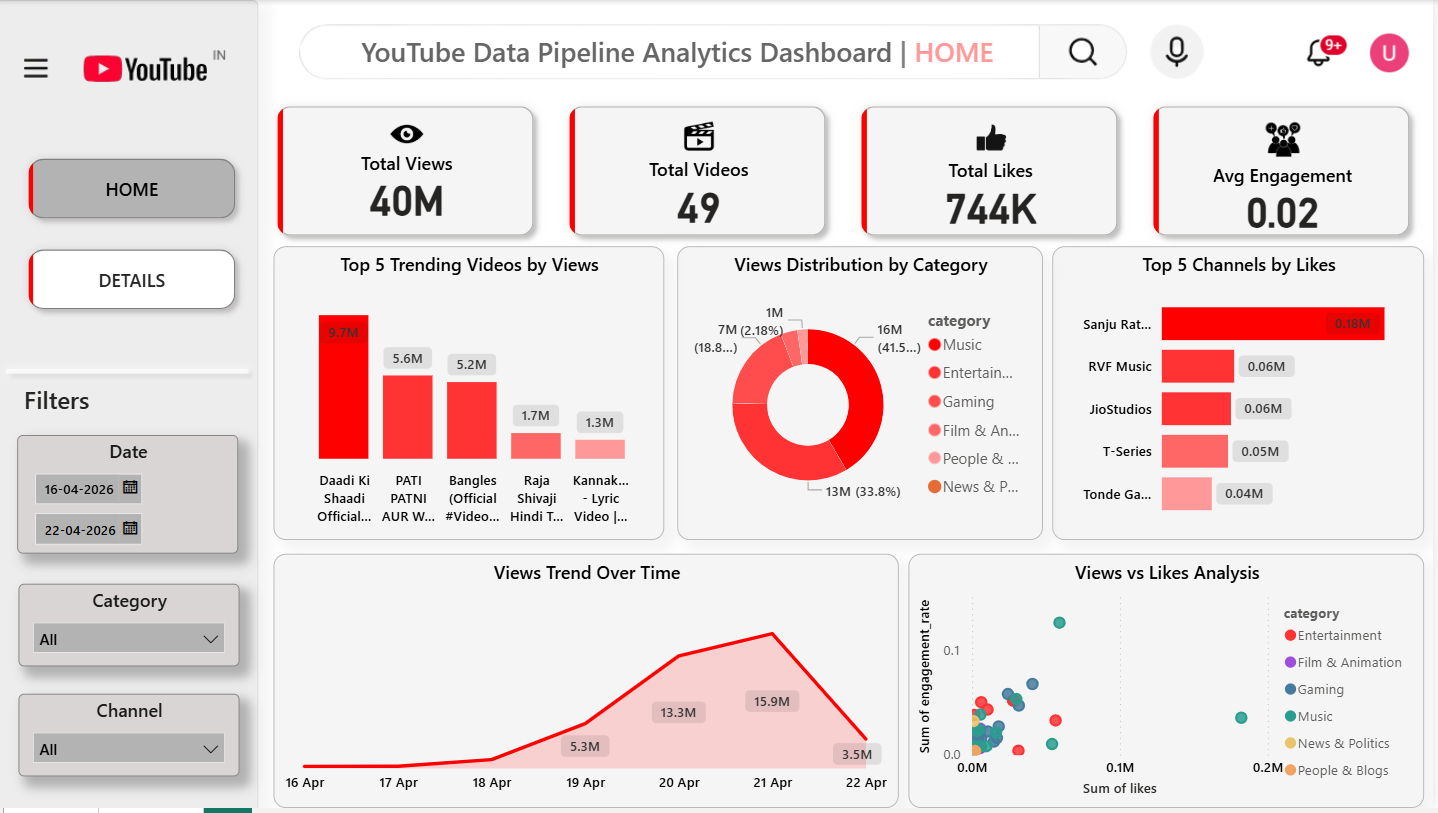

Layout of this report page (visuals, bound fields, positions):
{"tool":"powerbi","page":{"name":"HOME","canvas":[1280,720],"ordinal":0},"visuals":[{"type":"shape","box":[0,0,233.8,800.4],"z":0},{"type":"image","box":[10.5,15.1,223.3,90.7],"z":1000},{"type":"image","box":[233.7,0,877.9,91.9],"z":2000},{"type":"textbox","box":[289.5,24.4,634.9,44.2],"z":3000},{"type":"image","box":[1151.2,15.1,129.1,62.8],"z":4000},{"type":"cardVisual","fields":{"Data":["Query1.Total Views_1","Query1.Total Videos_1","Query1.Total Likes_1","Query1.Avg Engagement_1"]},"box":[234,78.4,1046,149.6],"z":5000},{"type":"barChart","title":"Top 5 Channels by Likes","fields":{"Category":["Query1.channel"],"Y":["Sum(Query1.likes)"]},"box":[940.7,219.8,331.4,261.6],"z":6000},{"type":"donutChart","title":"Views Distribution by Category","fields":{"Y":["Sum(Query1.views)"],"Category":["Query1.category"]},"box":[607,219.8,325.6,261.6],"z":7000},{"type":"columnChart","title":"Top 5 Trending Videos by Views","fields":{"Category":["Query1.title"],"Y":["Query1.Total Views_1"]},"box":[247.7,219.8,347.7,261.6],"z":8000},{"type":"stackedAreaChart","title":"Views Trend Over Time","fields":{"Y":["Sum(Query1.views)"],"Category":["Query1.publish_date.Variation.Date Hierarchy.Year","Query1.publish_date.Variation.Date Hierarchy.Quarter","Query1.publish_date.Variation.Date Hierarchy.Month","Query1.publish_date.Variation.Date Hierarchy.Day"]},"box":[247.7,493,557,226.7],"z":9000},{"type":"scatterChart","title":"Views vs Likes Analysis","fields":{"Series":["Query1.category"],"Y":["Sum(Query1.engagement_rate)"],"X":["Sum(Query1.likes)"],"Category":["Query1.views"]},"box":[812.8,493,459.3,226.7],"z":10000},{"type":"slicer","title":"Category","fields":{"Values":["Query1.category"]},"box":[19.8,519.8,196.5,73.3],"z":11000},{"type":"slicer","title":"Channel","fields":{"Values":["Query1.channel"]},"box":[19.8,617.4,196.5,73.3],"z":12000},{"type":"slicer","title":"Date","fields":{"Values":["Query1.publish_date"]},"box":[18.6,387.2,196.5,105.8],"z":13000},{"type":"textbox","box":[19.8,336,86,43],"z":14000},{"type":"shape","box":[0,302.3,233.7,55.8],"z":15000},{"type":"pageNavigator","box":[20.5,132.7,202.7,153.2],"z":16000}]}

Visuals, with their boxes on the page's 1280x720 design canvas (x1, y1, x2, y2). These are canvas units, not pixel positions in the 1438x813 screenshot, which may show the page scaled, cropped or inside an application window:
shape: 0:0:234:800
image: 10:15:234:106
image: 234:0:1112:92
textbox: 290:24:924:69
image: 1151:15:1280:78
cardVisual - Query1.Total Views_1 x Query1.Total Videos_1: 234:78:1280:228
"Top 5 Channels by Likes" barChart: 941:220:1272:481
"Views Distribution by Category" donutChart: 607:220:933:481
"Top 5 Trending Videos by Views" columnChart: 248:220:595:481
"Views Trend Over Time" stackedAreaChart: 248:493:805:720
"Views vs Likes Analysis" scatterChart: 813:493:1272:720
"Category" slicer: 20:520:216:593
"Channel" slicer: 20:617:216:691
"Date" slicer: 19:387:215:493
textbox: 20:336:106:379
shape: 0:302:234:358
pageNavigator: 20:133:223:286
